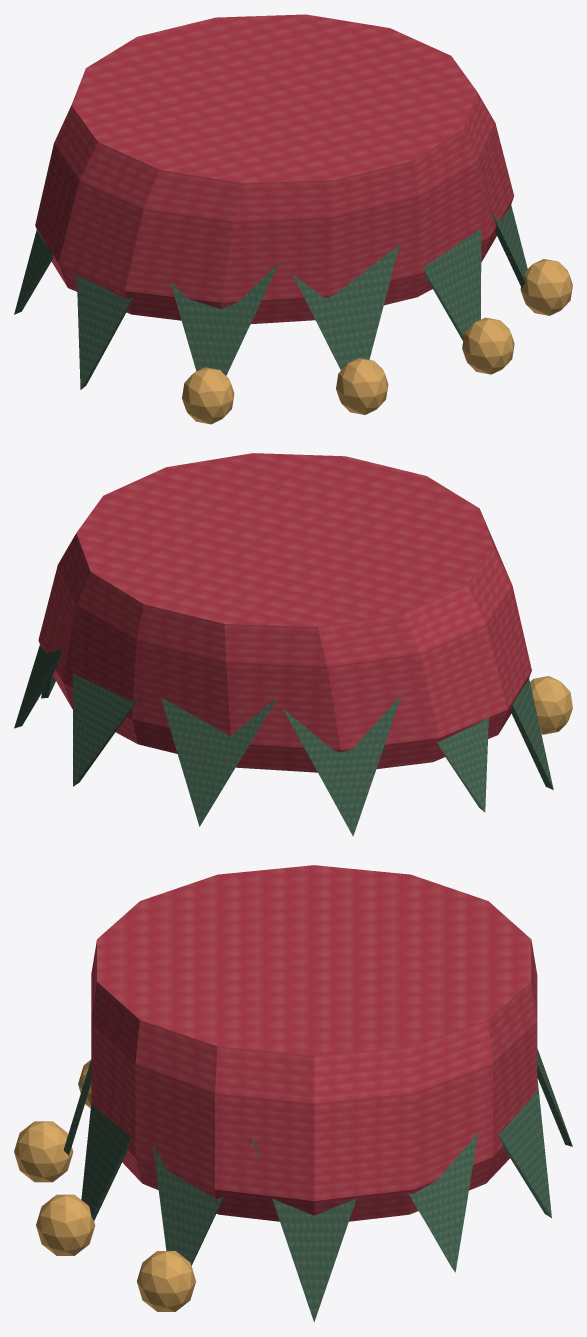
Rendered from feltling_elf_collar.glb.
The picture shows the model from 3 angles, top to bottom: view 1: azimuth 30°, elevation 25°; view 2: azimuth 150°, elevation 25°; view 3: azimuth 270°, elevation 25°; orthographic projection. The views are drawn at different scales.
Visible parts, largest first — view 1: feltling_elf_collar; view 2: feltling_elf_collar; view 3: feltling_elf_collar.
Boxes of the visible parts, x1,y1,x2,y2 form: feltling_elf_collar: [14, 14, 572, 424]; feltling_elf_collar: [14, 453, 572, 836]; feltling_elf_collar: [14, 865, 572, 1322].
Bounding box in the file's own units: 0.1999 × 0.089 × 0.1882.
Materials: 3 (2 with a texture image).
